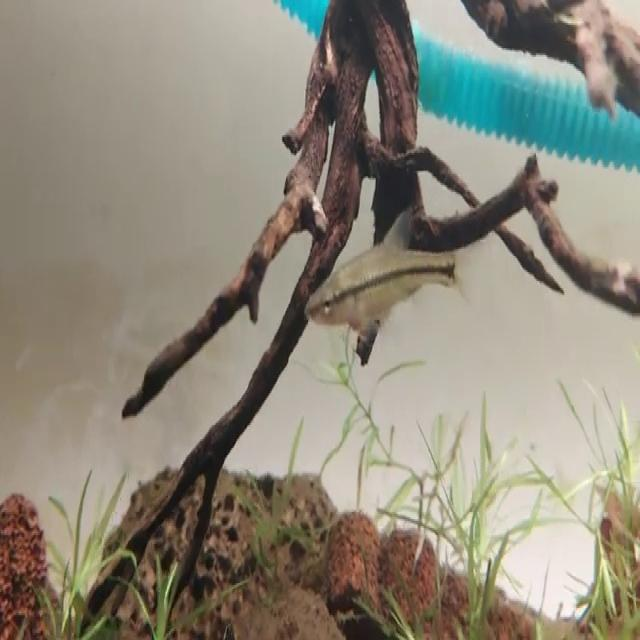Cakil Baligi: (308, 204, 463, 341)
